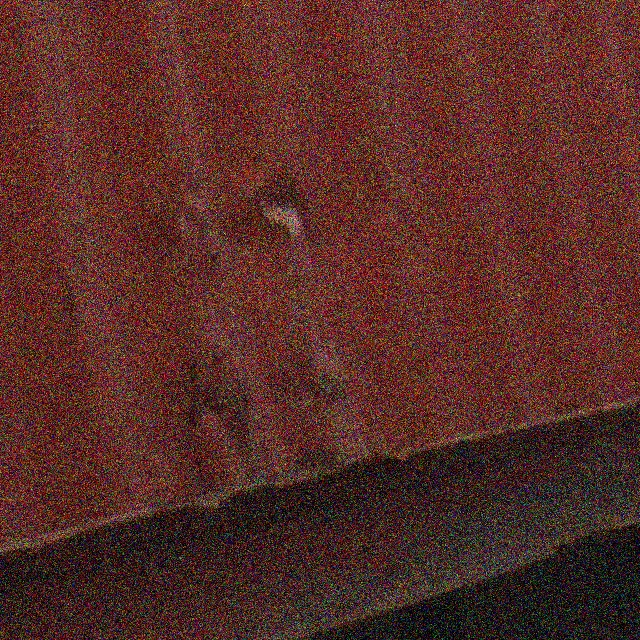Dent: (72, 155, 403, 480)
